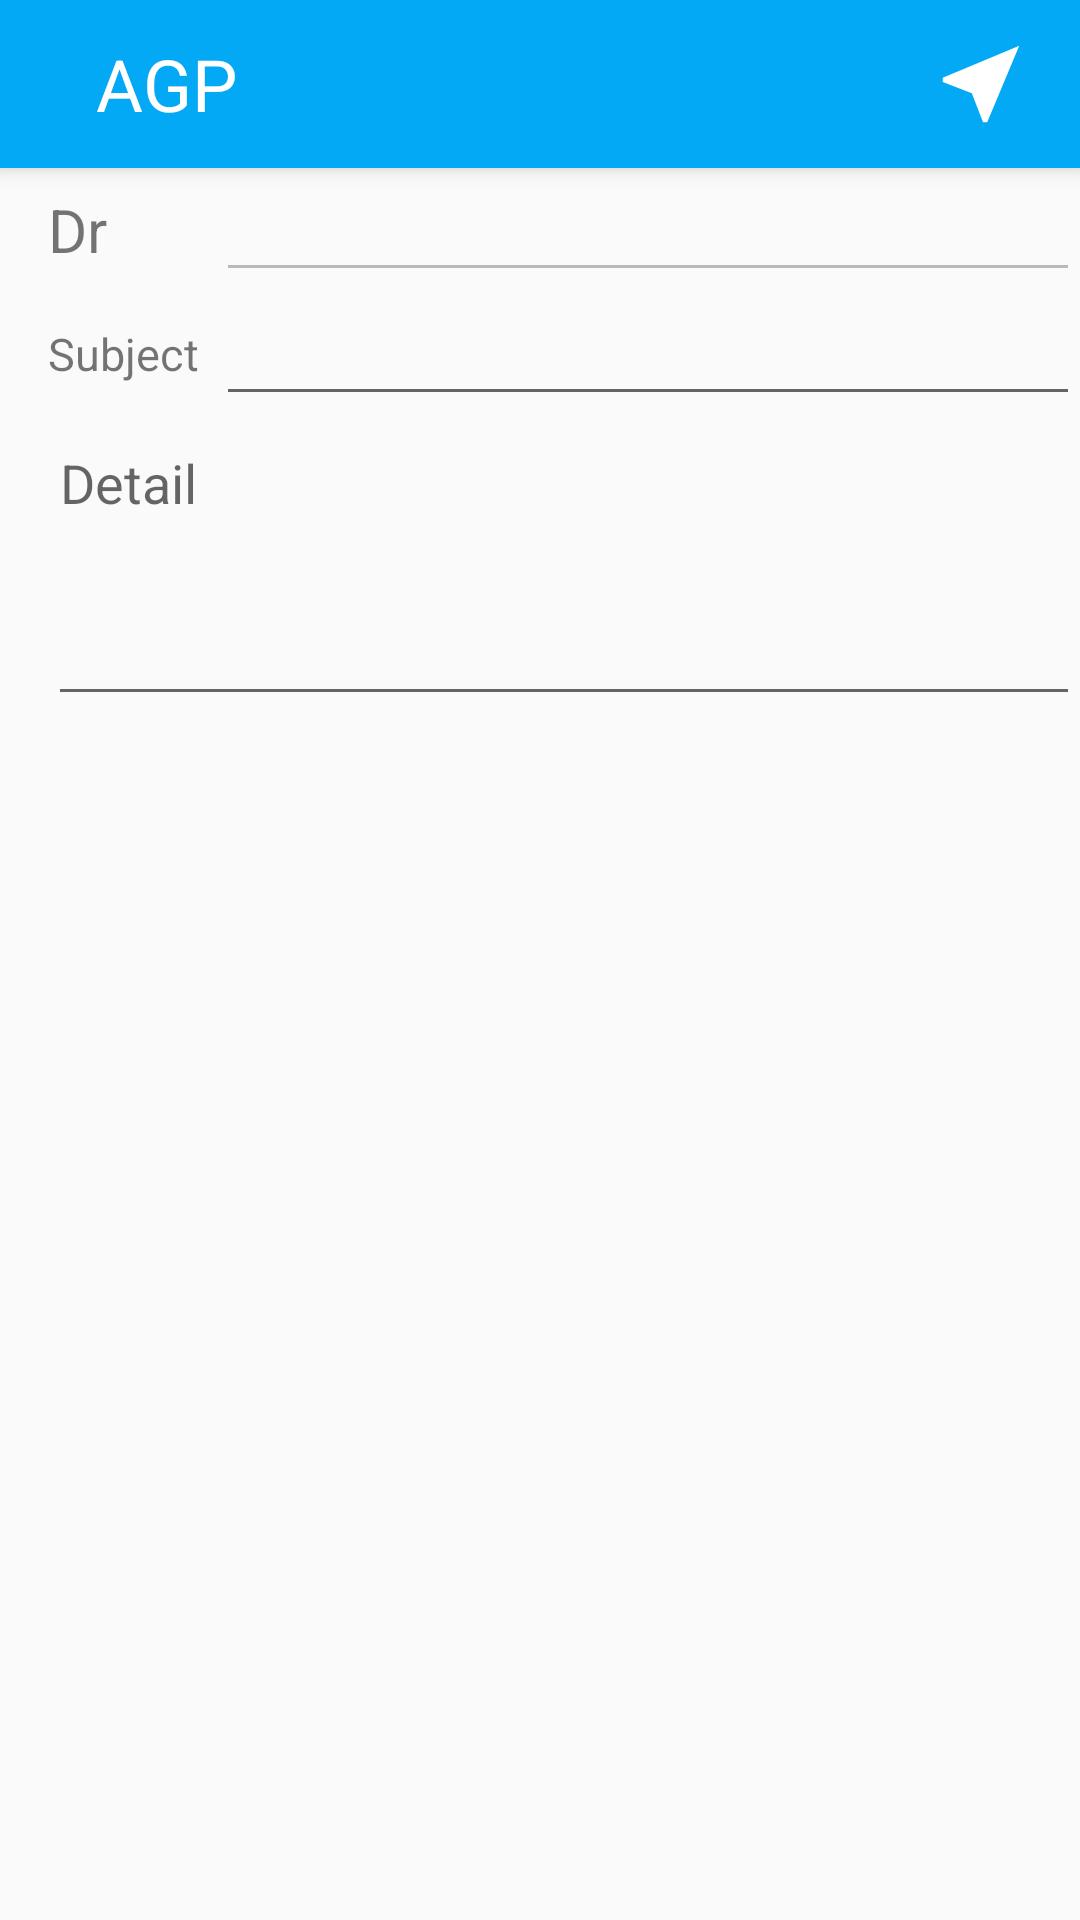

Point at icon controls on the screen. Image size 1080 × 1920, points as point (x, y).
near me: point (980, 84)
